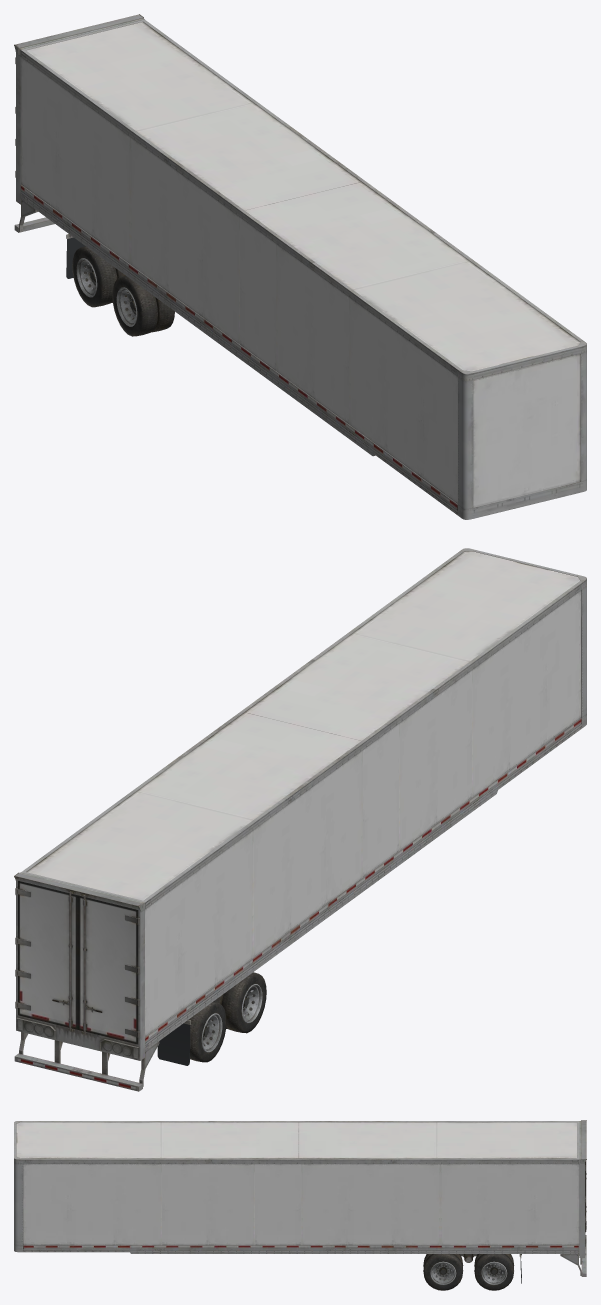
The model's file is dryvan53-v1.glb.
3 renders of one model, top to bottom at view 1: azimuth 30°, elevation 25°; view 2: azimuth 150°, elevation 25°; view 3: azimuth 270°, elevation 25°, orthographic. The views are drawn at different scales.
Parts seen in each view (by area): view 1: Trailer_body, Trailer_right-front-outer_tire, Trailer_right-rear-outer_tire; view 2: Trailer_body, Trailer_rear_door_right, Trailer_rear_door_left, Trailer_right-front-outer_tire, Trailer_rear-guard, Trailer_right-rear-outer_tire, Trailer_mudflap, Trailer_frame; view 3: Trailer_body, Trailer_left-front-outer_tire, Trailer_left-rear-outer_tire, Trailer_left-rear-outer_rim, Trailer_left-front-outer_rim.
Part boxes in pixels (x1=…): Trailer_body: x1=14, y1=14, x2=586, y2=519; Trailer_right-front-outer_tire: x1=112, y1=275, x2=157, y2=336; Trailer_right-rear-outer_tire: x1=72, y1=246, x2=117, y2=307; Trailer_body: x1=14, y1=548, x2=586, y2=1060; Trailer_rear_door_right: x1=78, y1=895, x2=139, y2=1044; Trailer_rear_door_left: x1=15, y1=880, x2=77, y2=1030; Trailer_right-front-outer_tire: x1=221, y1=972, x2=266, y2=1033; Trailer_rear-guard: x1=14, y1=1040, x2=142, y2=1091; Trailer_right-rear-outer_tire: x1=188, y1=1001, x2=226, y2=1062; Trailer_mudflap: x1=157, y1=1023, x2=190, y2=1065; Trailer_frame: x1=16, y1=1017, x2=190, y2=1086; Trailer_body: x1=14, y1=1120, x2=586, y2=1257; Trailer_left-front-outer_tire: x1=423, y1=1254, x2=463, y2=1290; Trailer_left-rear-outer_tire: x1=474, y1=1254, x2=513, y2=1290; Trailer_left-rear-outer_rim: x1=481, y1=1261, x2=506, y2=1284; Trailer_left-front-outer_rim: x1=430, y1=1262, x2=455, y2=1284.
Size of the model in its own units: 2.61 by 4.11 by 16.15.
Materials: 3 (2 with a texture image).
